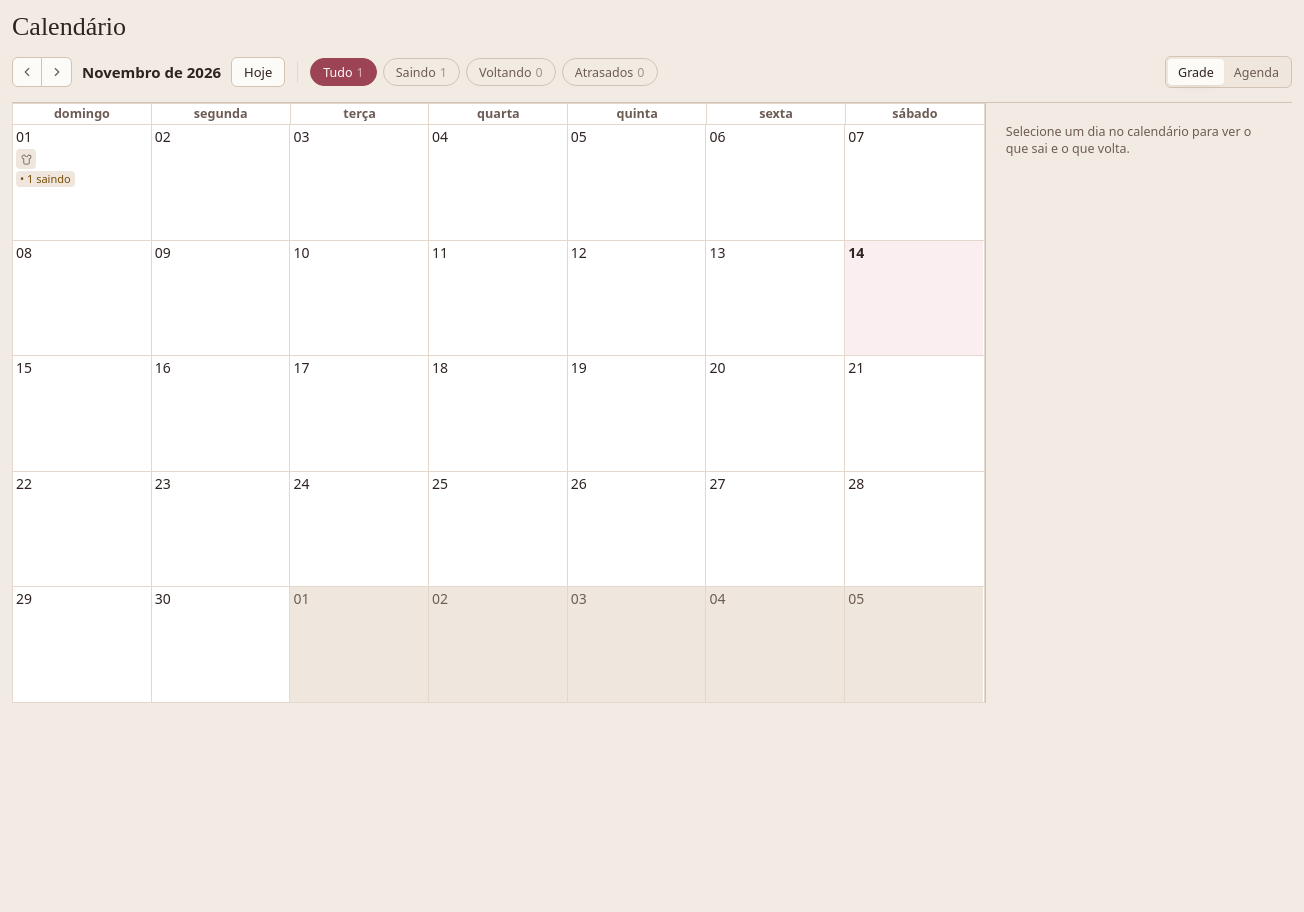
Test case: CalendarPage › falls back to the raw productId when no matching product is found
The width and height of the screenshot is (1304, 912).
Click the button "Agenda": (1256, 72) top-left (1224, 59), bottom-right (1289, 85)
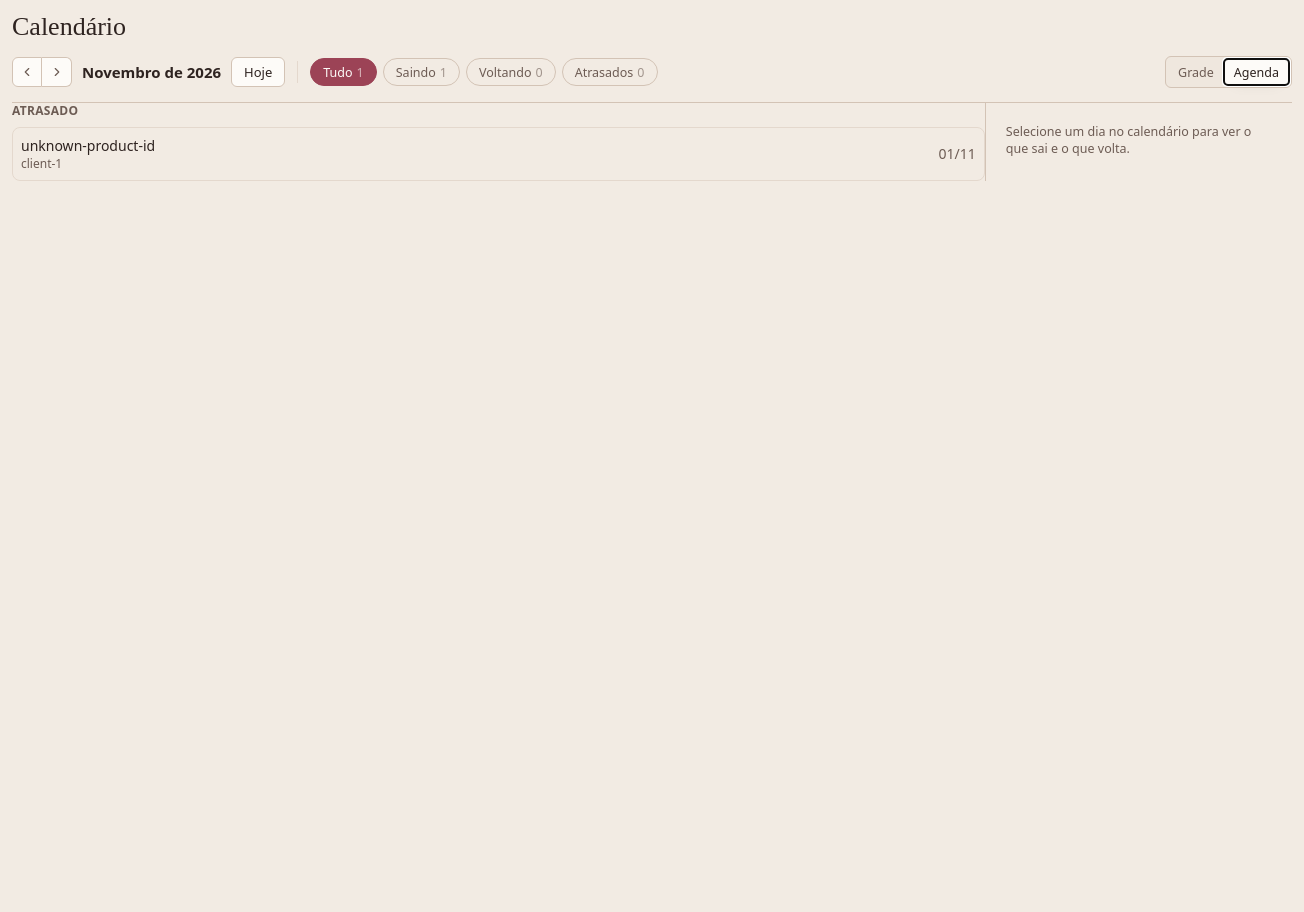
expect the text "unknown-product-id" is shown: met, box top-left (21, 136), bottom-right (155, 156)
